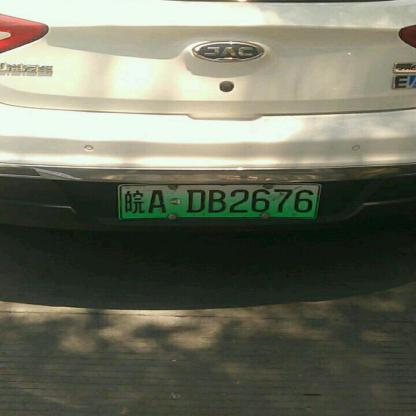lp: (120, 183, 320, 221)
